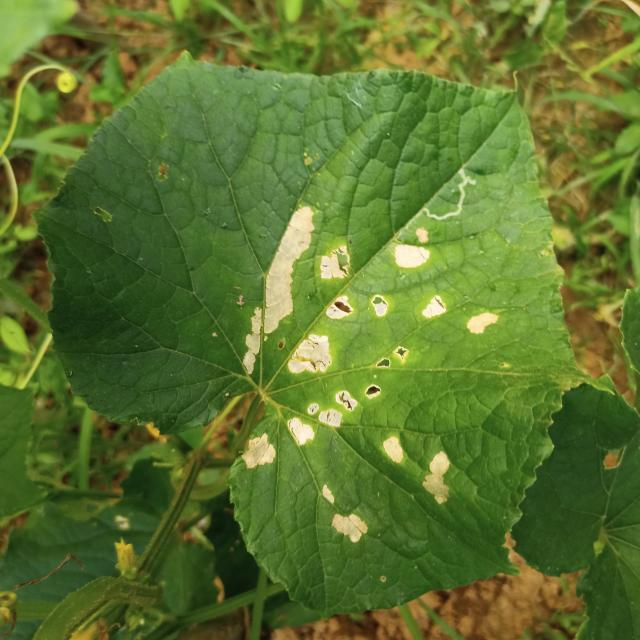disease_cucumber: (237, 208, 501, 474), (383, 434, 453, 508), (318, 482, 368, 544)
